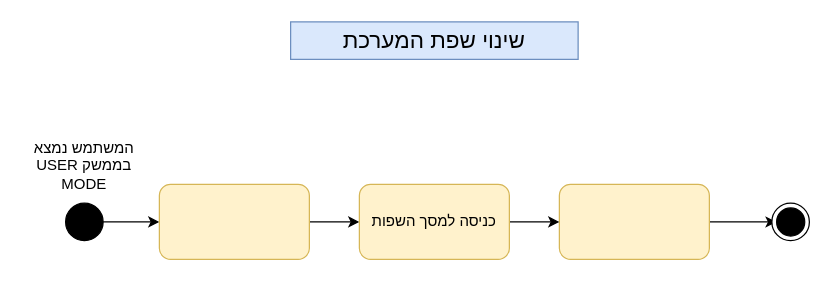
The diagram is 831 pixels wide and 281 high, and some of its shapes have lost their labels. Here are the shapes that lost their labels. From the top down, the centre of each, then its label:
the point at 233,221: גישה לטפריט
the point at 633,221: בחירה בשפה המועודפת
